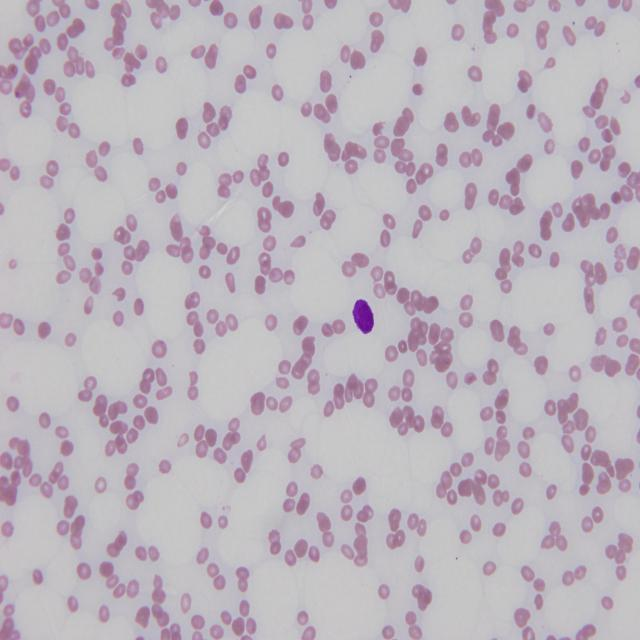cell: (352, 300, 374, 333)
